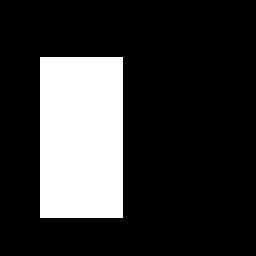person: (40, 57, 122, 217)
